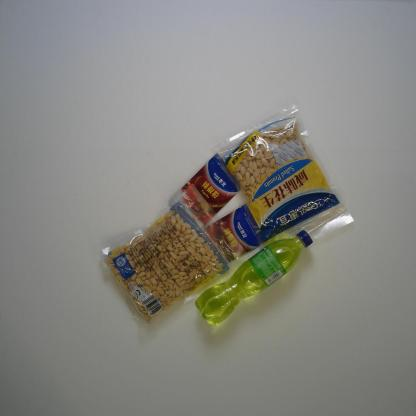Dried Fruit: (98, 183, 248, 332), (213, 101, 354, 252)
Drink: (194, 229, 314, 327)
Seasoner: (167, 152, 241, 230), (203, 203, 266, 264)
